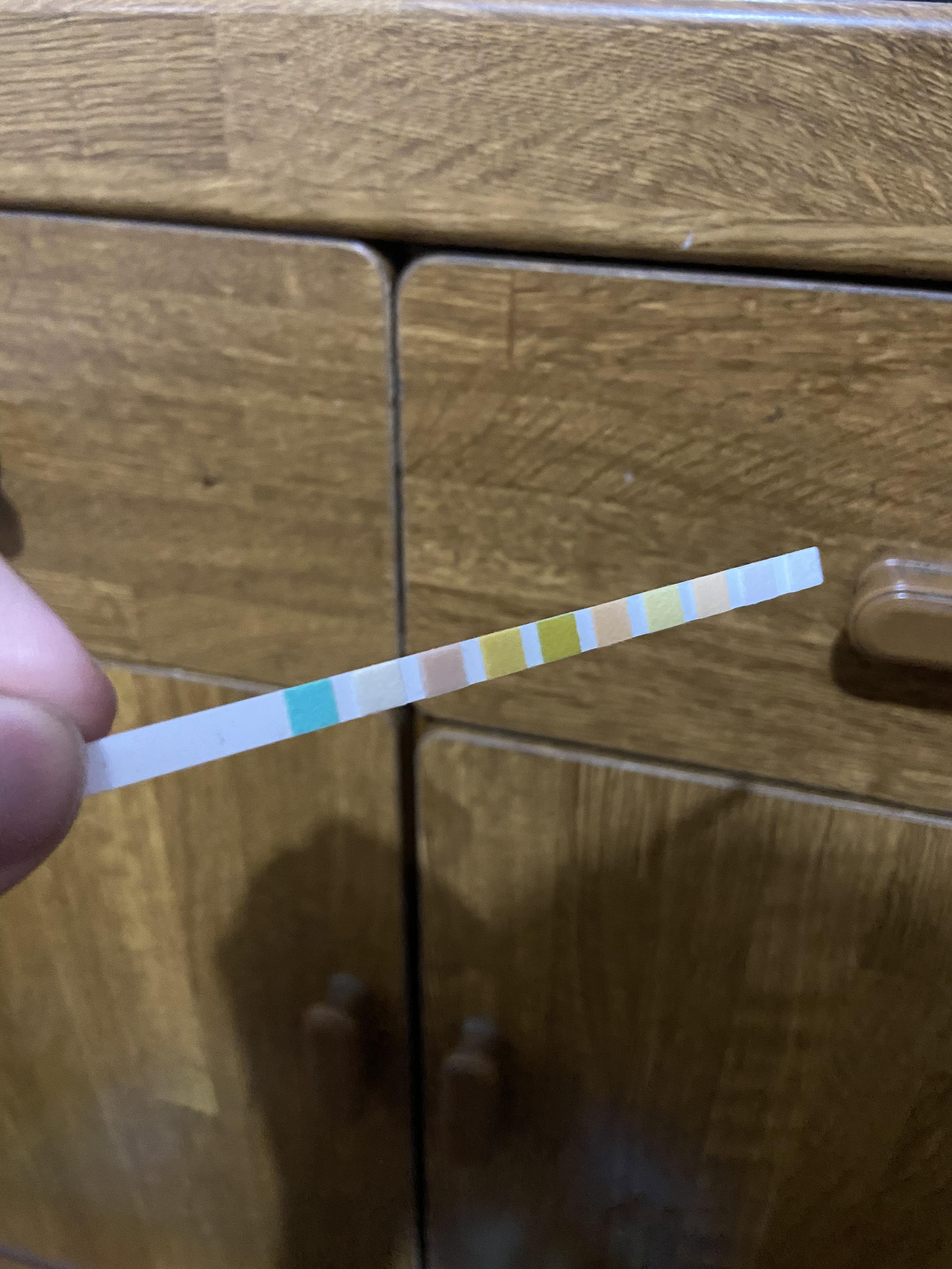Bilirubin: (360, 670, 399, 707)
Blood: (542, 621, 576, 655)
Glucose: (291, 689, 334, 724)
Ketone: (424, 652, 461, 688)
Leukocytes: (790, 554, 818, 585)
Nitrite: (744, 566, 772, 599)
Protein: (649, 591, 678, 626)
SpGravity: (486, 635, 520, 671)
Urobilinogen: (698, 578, 726, 611)
pH: (596, 606, 627, 640)
strip: (98, 546, 824, 792)
